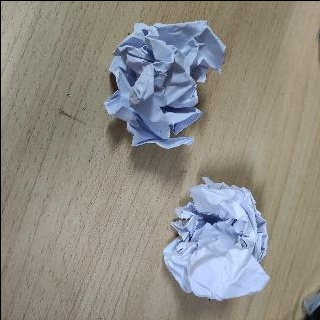8/可回收垃圾/纸: (103, 20, 227, 149), (163, 177, 271, 301)
